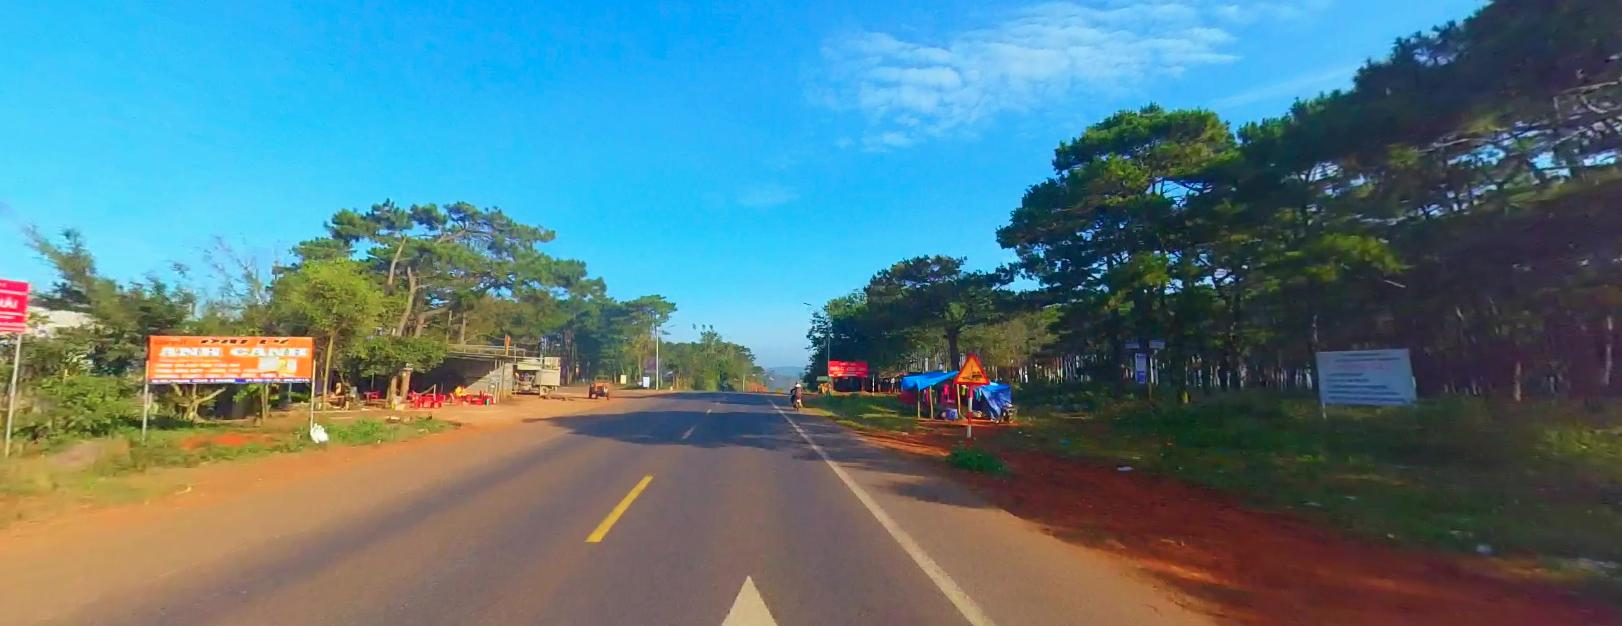Nguy hiem: (953, 351, 988, 383)
